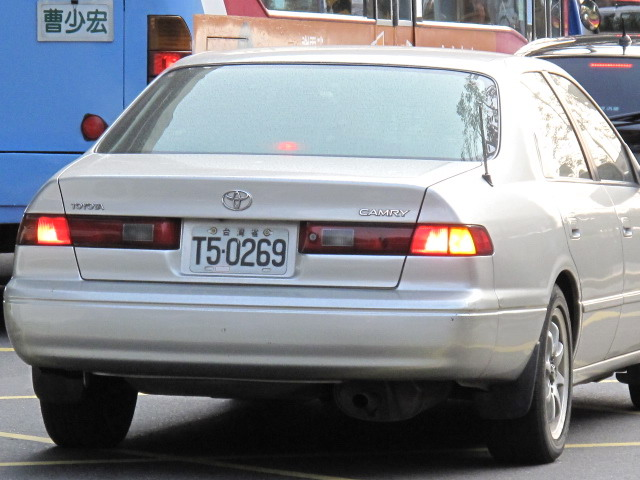plate: (187, 220, 291, 279)
